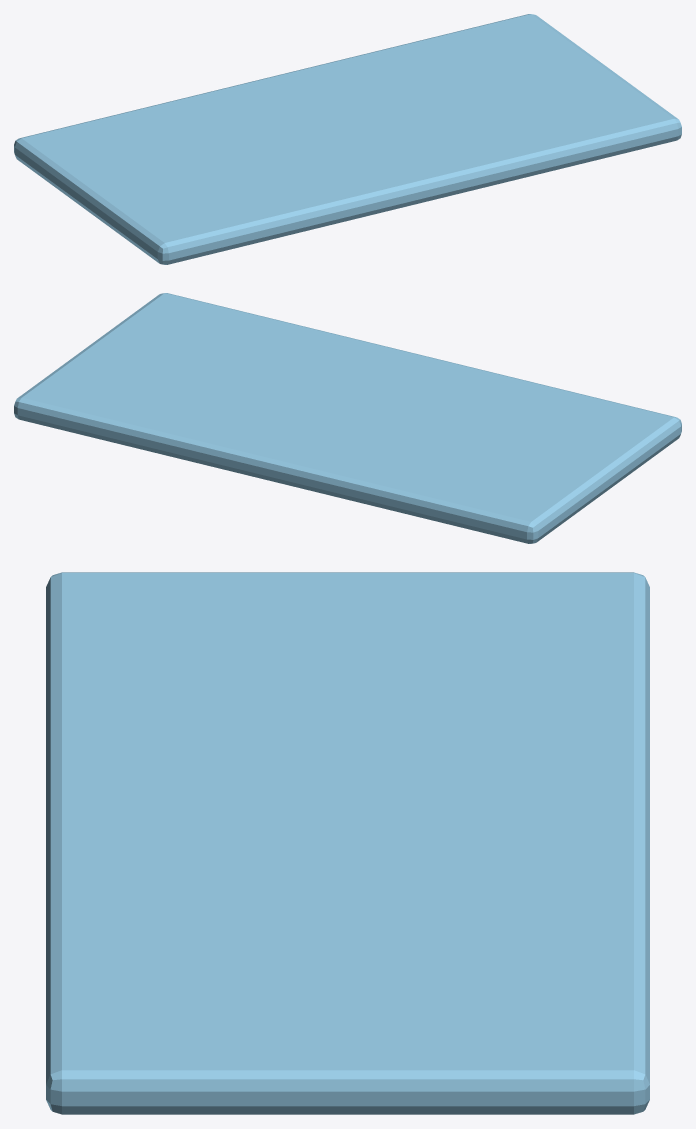
Rendered from int_matras.fbx.
The picture shows the model from 3 angles, top to bottom: view 1: azimuth 30°, elevation 25°; view 2: azimuth 150°, elevation 25°; view 3: azimuth 270°, elevation 25°; orthographic projection. The views are drawn at different scales.
Parts seen in each view (by area): view 1: int_matras; view 2: int_matras; view 3: int_matras.
Part boxes in pixels (x1,y1,x2,y2): int_matras: [14, 14, 681, 264]; int_matras: [14, 293, 681, 543]; int_matras: [46, 572, 649, 1114].
Size of the model in its own units: 200 by 8 by 100.
1 material, 1 textured.
